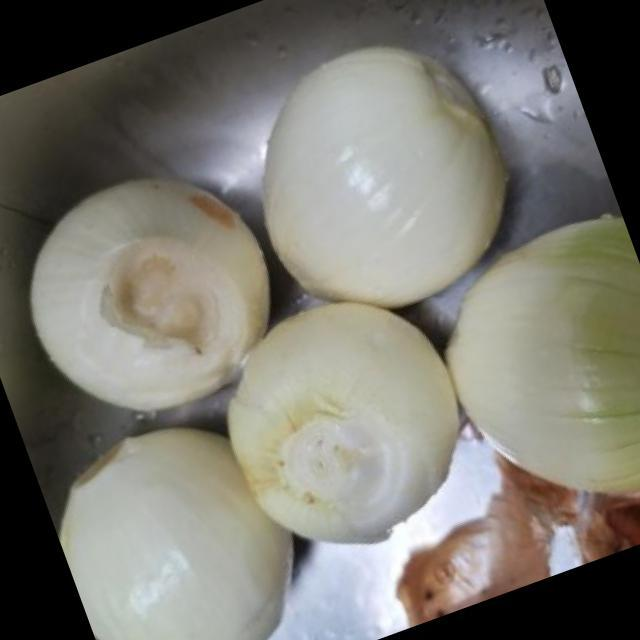Onion: (262, 48, 512, 304), (452, 215, 640, 504), (28, 182, 266, 402), (234, 304, 455, 536), (61, 432, 290, 640)
